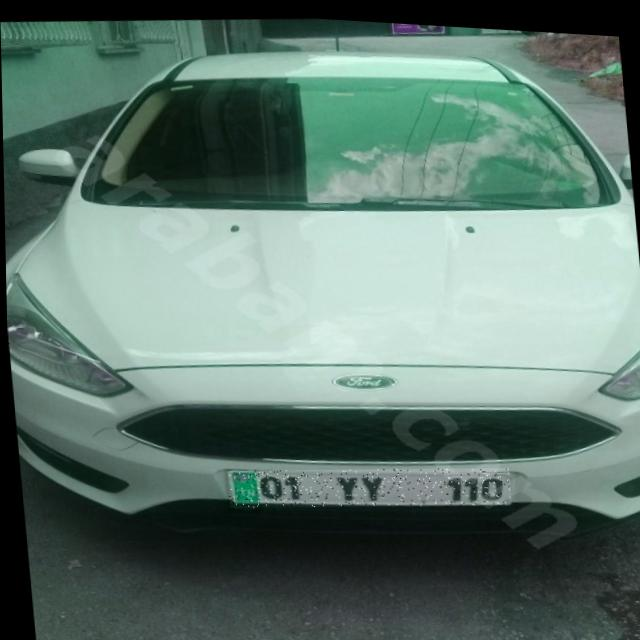license_plate: (224, 448, 510, 518)
